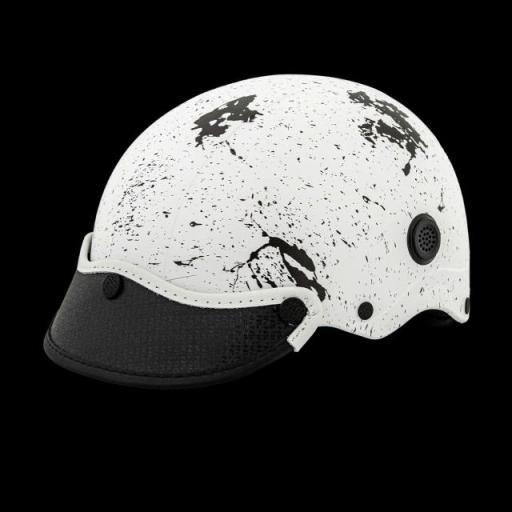with helmet: (30, 60, 486, 386)
